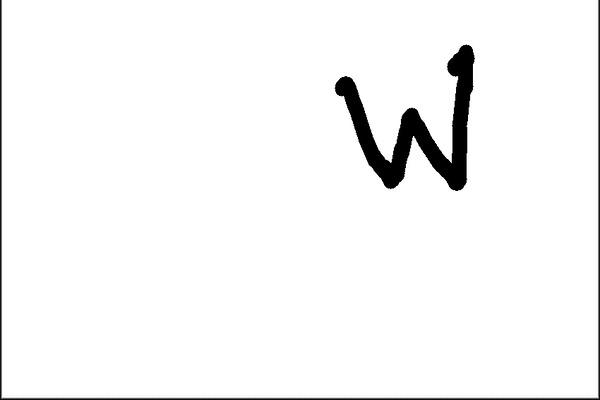w: (315, 30, 497, 205)
